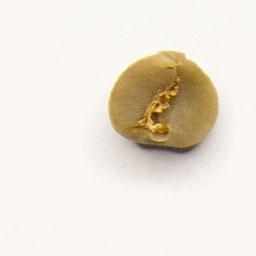premium: (105, 48, 221, 151)
